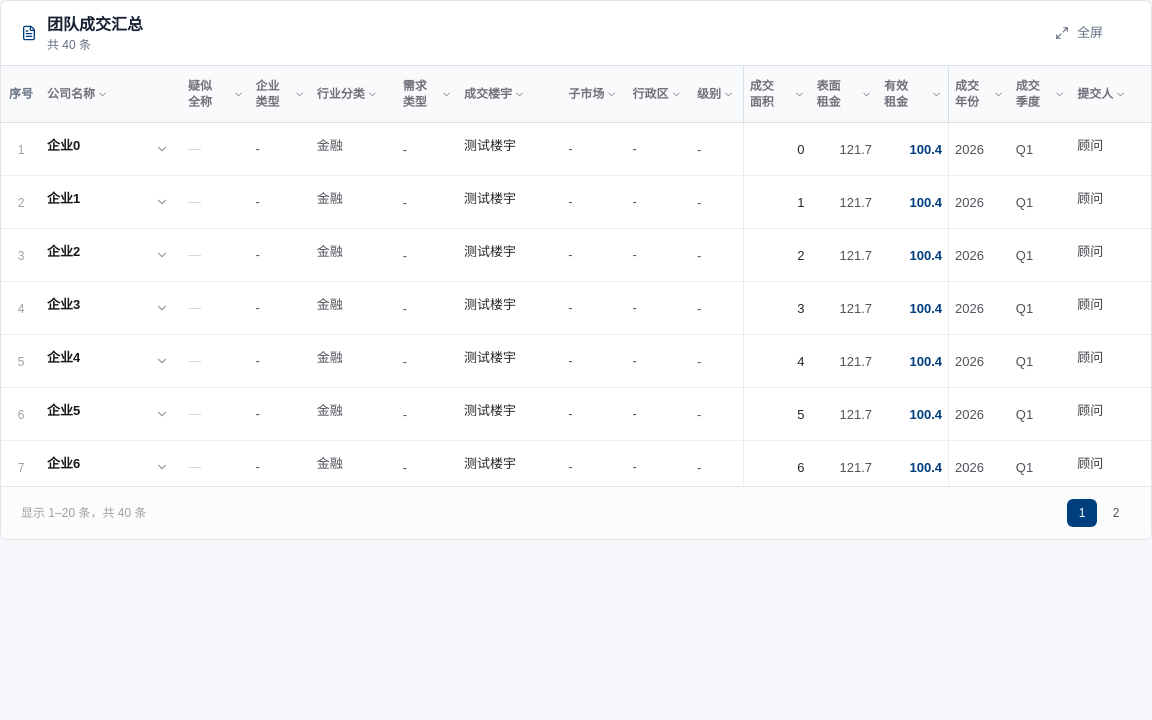
成交汇总交互 › sorts all records before paginating, resets page, exposes all header menus and preserves rent values
Expected: the button "公司名称" is shown, [47,84,176,104]
Expected: the button "疑似全称" is shown, [188,76,244,112]
Click the button "2": coordinates (1116, 513) [1101,499,1131,527]
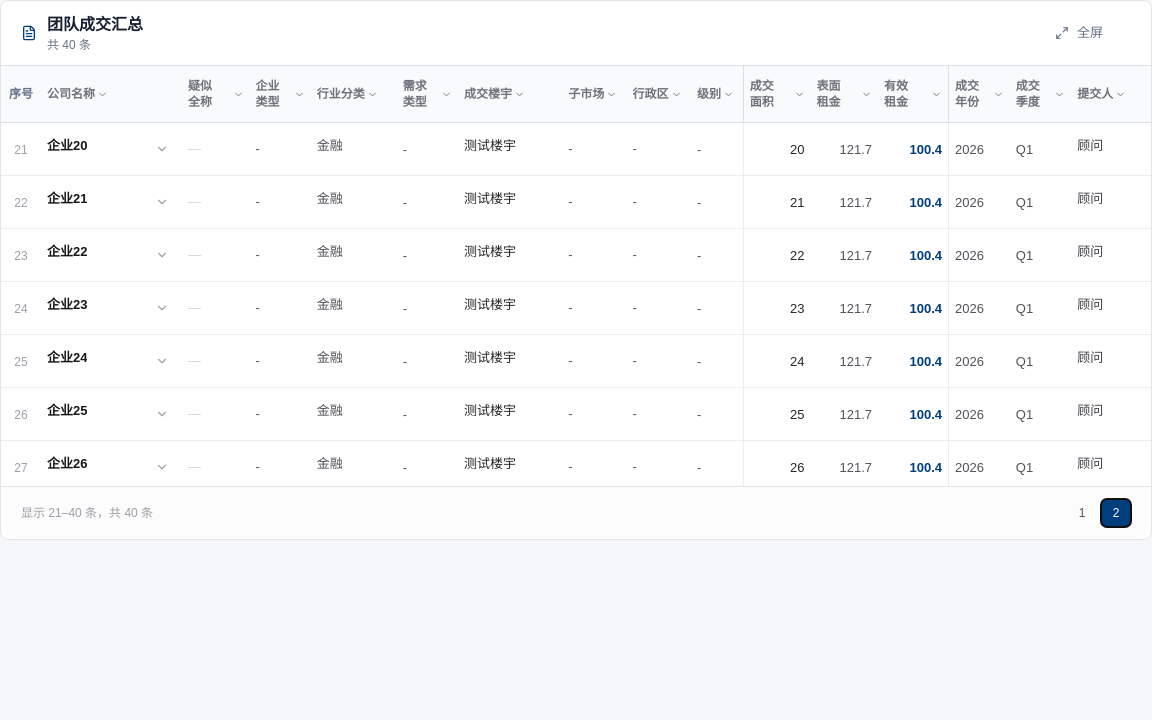
Expected: the text "企业20" is shown, [47,136,88,156]
Click the button with aria-label "成交面积筛选和排序": coordinates (777, 94) [750,76,805,112]
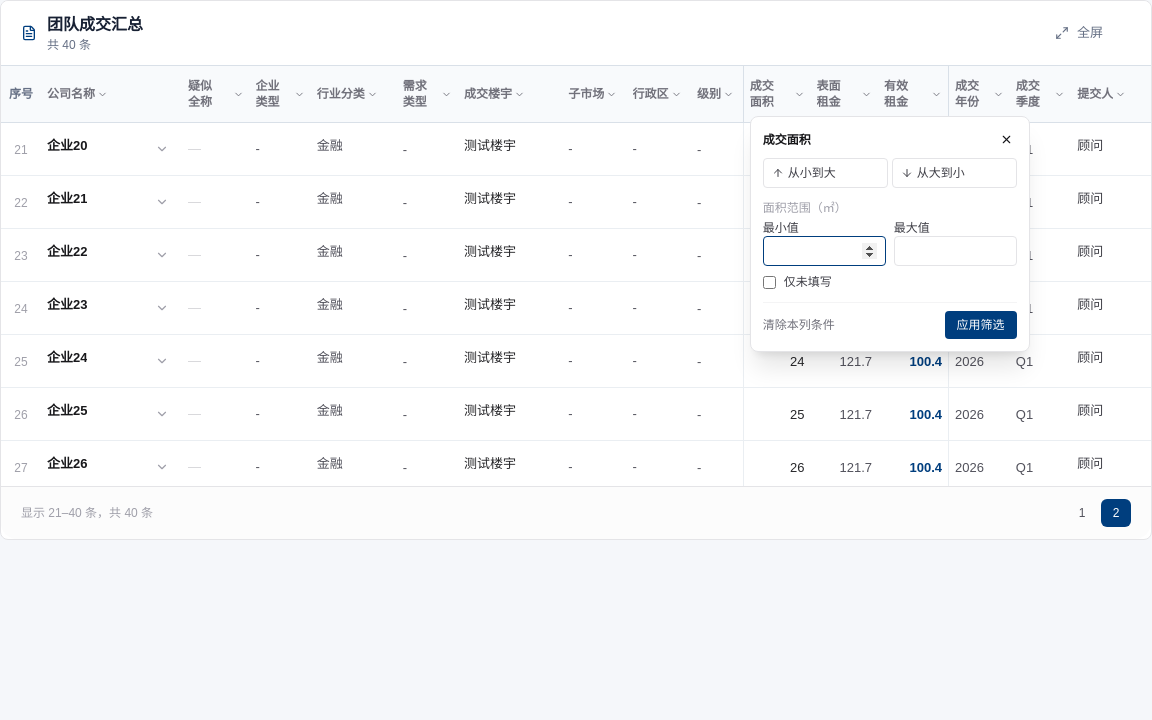
Click the button "从大到小": coordinates (954, 173) [892,158,1017,188]
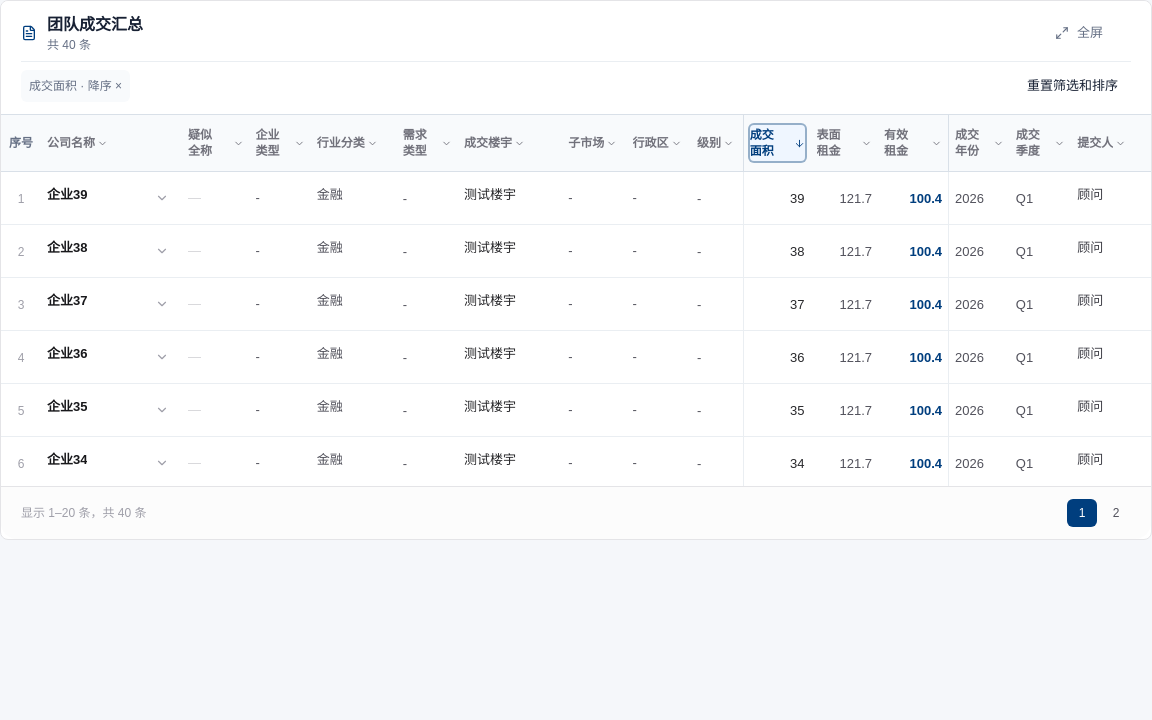
Expected: the text "企业0" is not shown
Expected: the text "企业39" is shown, [47,185,88,205]
